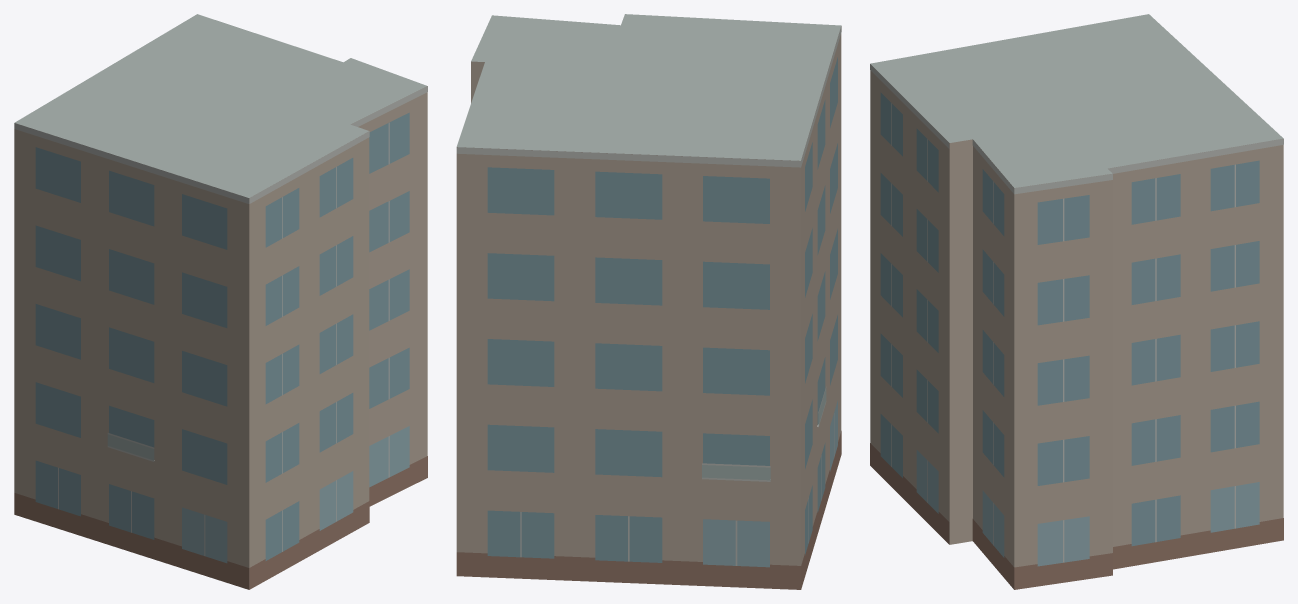
The model's file is survey-upis-32860752.glb.
3 views of the same model, side by side, from view 1: azimuth 30°, elevation 25°; view 2: azimuth 150°, elevation 25°; view 3: azimuth 270°, elevation 25° (orthographic). The views are drawn at different scales.
Visible parts, largest first — view 1: survey-upis-32860752.tmp; view 2: survey-upis-32860752.tmp; view 3: survey-upis-32860752.tmp.
Boxes of the visible parts, bbox=[...] form: survey-upis-32860752.tmp: bbox=[14, 14, 427, 589]; survey-upis-32860752.tmp: bbox=[456, 14, 841, 589]; survey-upis-32860752.tmp: bbox=[870, 14, 1283, 589].
Size of the model in its own units: 14.55 by 15.65 by 14.61.
